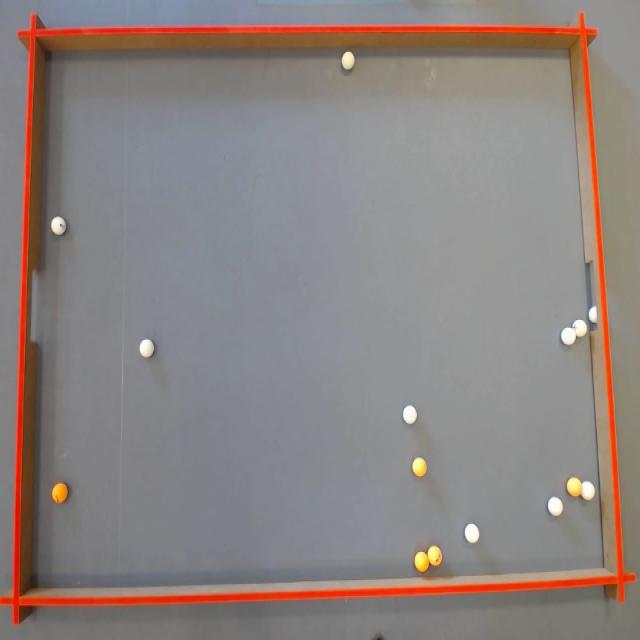orange_ball: (52, 482, 68, 503), (566, 477, 582, 497), (412, 457, 427, 477), (415, 551, 429, 572), (428, 546, 442, 566)
white_ball: (139, 339, 154, 358), (548, 497, 563, 516), (51, 217, 66, 236), (561, 327, 576, 345), (465, 524, 479, 543), (581, 481, 595, 500), (573, 319, 587, 338), (403, 405, 416, 424), (342, 51, 354, 70), (588, 306, 598, 323)
